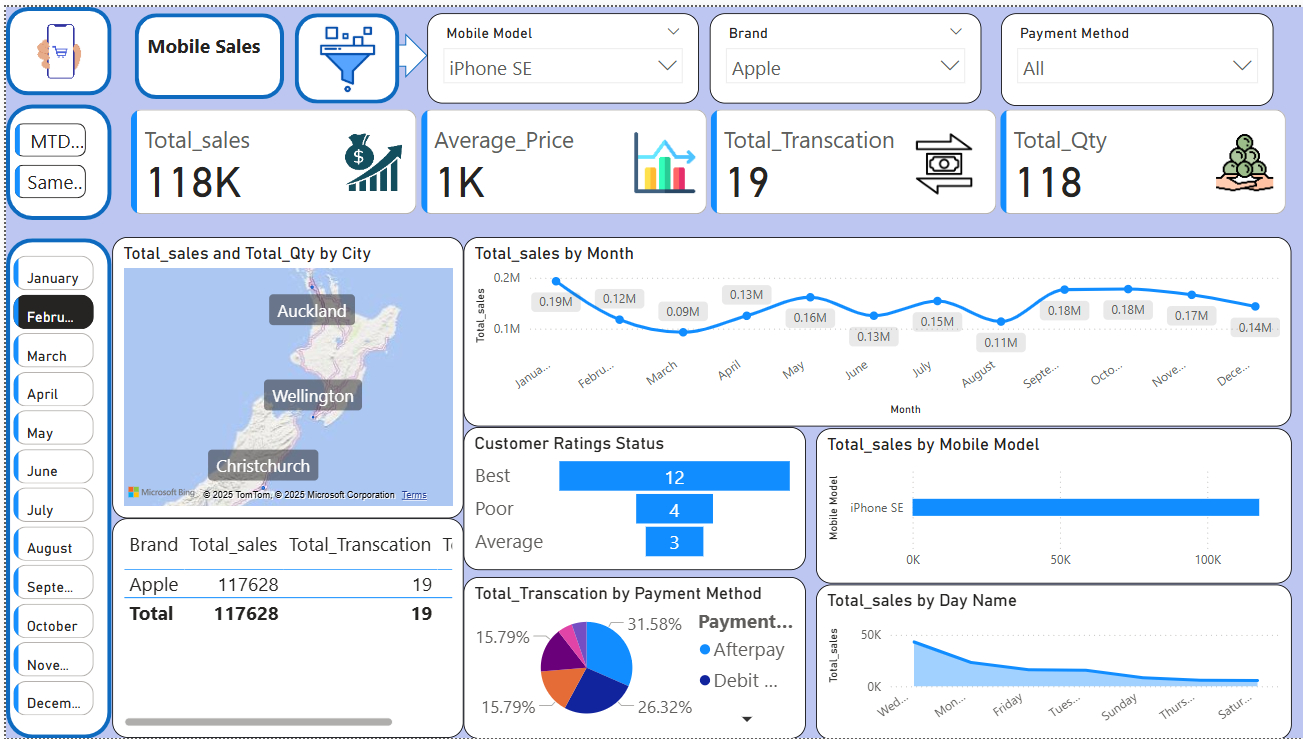

The page's visual inventory and layout, read from the dashboard file:
{"tool":"powerbi","page":{"name":"Dashboard Page","canvas":[1280,720],"ordinal":0},"visuals":[{"type":"shape","box":[360.9,25.4,53.2,44],"z":0},{"type":"shape","box":[284.5,5.8,102.9,89.1],"z":1000},{"type":"image","box":[267.2,13.9,138.8,76.3],"z":2000},{"type":"shape","box":[0,0,103.8,86.9],"z":3000},{"type":"image","box":[25.2,0,53.3,86.9],"z":4000},{"type":"shape","box":[0,227.2,103.8,492.2],"z":5000},{"type":"advancedSlicerVisual","fields":{"Values":["Custom_Calander.Date.Variation.Date Hierarchy.Month"]},"box":[2.8,239.8,89.7,462.8],"z":6000},{"type":"shape","box":[0,95.4,103.8,113.6],"z":7000},{"type":"cardVisual","fields":{"Data":["sales_data.madhu_total_sales","sales_data.Average_Price","sales_data.Total_Transcation","sales_data.Total_Qty"]},"box":[117.8,95.4,1147.1,113.6],"z":8000},{"type":"slicer","fields":{"Values":["sales_data.Mobile Model"]},"box":[414.1,5.8,267.2,89.1],"z":9000},{"type":"slicer","fields":{"Values":["sales_data.Brand"]},"box":[691.7,5.8,267.2,89.1],"z":10000},{"type":"slicer","fields":{"Values":["sales_data.Payment Method"]},"box":[978.6,5.8,268.4,91.4],"z":11000},{"type":"shape","box":[126.1,5.8,146.9,84.4],"z":12000},{"type":"textbox","box":[134.2,20.8,130.7,55.5],"z":13000},{"type":"map","fields":{"Category":["sales_data.City"],"Size":["sales_data.Total_sales"]},"box":[104.4,226.5,345.6,276.5],"z":14000},{"type":"lineChart","fields":{"Category":["Custom_Calander.Date.Variation.Date Hierarchy.Month"],"Y":["sales_data.Total_sales"]},"box":[450,226.5,814.7,186.8],"z":15000},{"type":"funnel","title":"Customer Ratings  Status","fields":{"Y":["sales_data.Customer Ratings"],"Category":["sales_data.Customer_Rating_Status"]},"box":[450,413.2,336.8,141.2],"z":16000},{"type":"pieChart","fields":{"Y":["sales_data.Total_Transcation"],"Category":["sales_data.Payment Method"]},"box":[450,560.3,336.8,158.8],"z":17000},{"type":"clusteredBarChart","fields":{"Y":["sales_data.Total_sales"],"Category":["sales_data.Mobile Model"]},"box":[797.1,414.7,467.6,152.9],"z":18000},{"type":"areaChart","fields":{"Y":["sales_data.Total_sales"],"Category":["Custom_Calander.Day Name"]},"box":[797.1,567.6,467.6,152.9],"z":19000},{"type":"tableEx","fields":{"Values":["sales_data.Brand","sales_data.Total_sales","sales_data.Total_Transcation","sales_data.Total_Qty"]},"box":[104.4,502.9,345.6,216.2],"z":20000},{"type":"pageNavigator","box":[8.3,114.4,70.3,75.1],"z":21000}]}

Visuals, with their boxes in screenshot pixels (x1, y1, x2, y2), scaled from the page's 1280x720 canvas onto the 1303x739 screenshot:
shape: box(367, 26, 422, 71)
shape: box(290, 6, 394, 97)
image: box(272, 14, 413, 93)
shape: box(0, 0, 106, 89)
image: box(26, 0, 80, 89)
shape: box(0, 233, 106, 738)
advancedSlicerVisual - Custom_Calander.Date.Variation.Date Hierarchy.Month: box(3, 246, 94, 721)
shape: box(0, 98, 106, 215)
cardVisual - sales_data.madhu_total_sales x sales_data.Average_Price: box(120, 98, 1288, 215)
slicer - sales_data.Mobile Model: box(422, 6, 694, 97)
slicer - sales_data.Brand: box(704, 6, 976, 97)
slicer - sales_data.Payment Method: box(996, 6, 1269, 100)
shape: box(128, 6, 278, 93)
textbox: box(137, 21, 270, 78)
map - sales_data.City x sales_data.Total_sales: box(106, 232, 458, 516)
lineChart - Custom_Calander.Date.Variation.Date Hierarchy.Month x sales_data.Total_sales: box(458, 232, 1287, 424)
"Customer Ratings  Status" funnel: box(458, 424, 801, 569)
pieChart - sales_data.Total_Transcation x sales_data.Payment Method: box(458, 575, 801, 738)
clusteredBarChart - sales_data.Total_sales x sales_data.Mobile Model: box(811, 426, 1287, 583)
areaChart - sales_data.Total_sales x Custom_Calander.Day Name: box(811, 583, 1287, 738)
tableEx - sales_data.Brand x sales_data.Total_sales: box(106, 516, 458, 738)
pageNavigator: box(8, 117, 80, 195)
